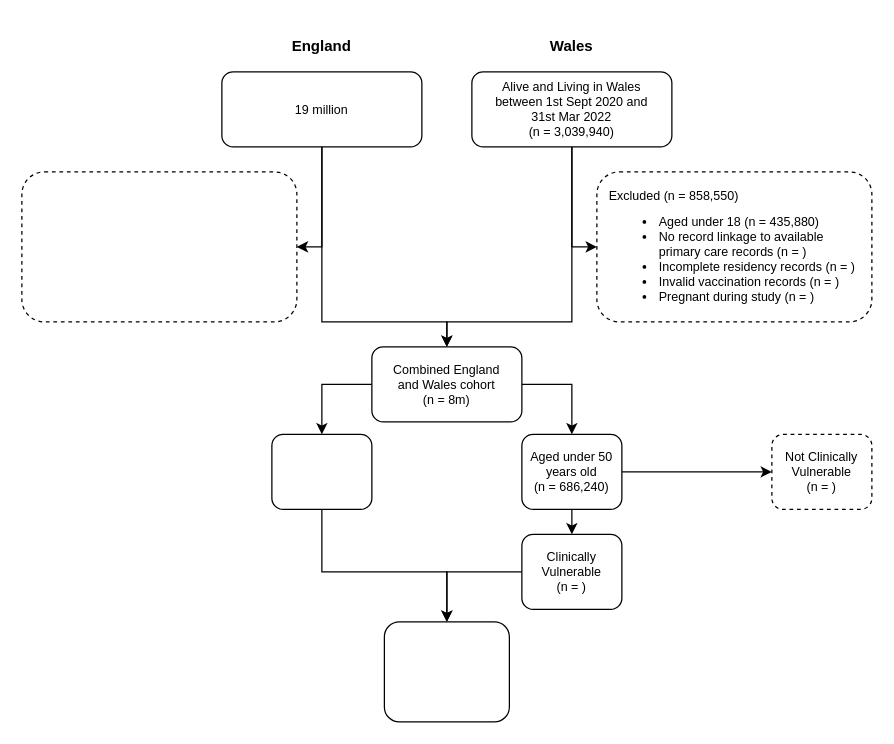
Some shapes in this 894 by 744 pixel diagram are drawn without their labels. Each missing label, with the centre of its shape:
"Aged over 50 years old (n = 686,240)" goes at point (321, 471).
"Eligible for a covid and flu vaccination during study window (n = )" goes at point (446, 671).
"Excluded ( n = )" goes at point (159, 246).
